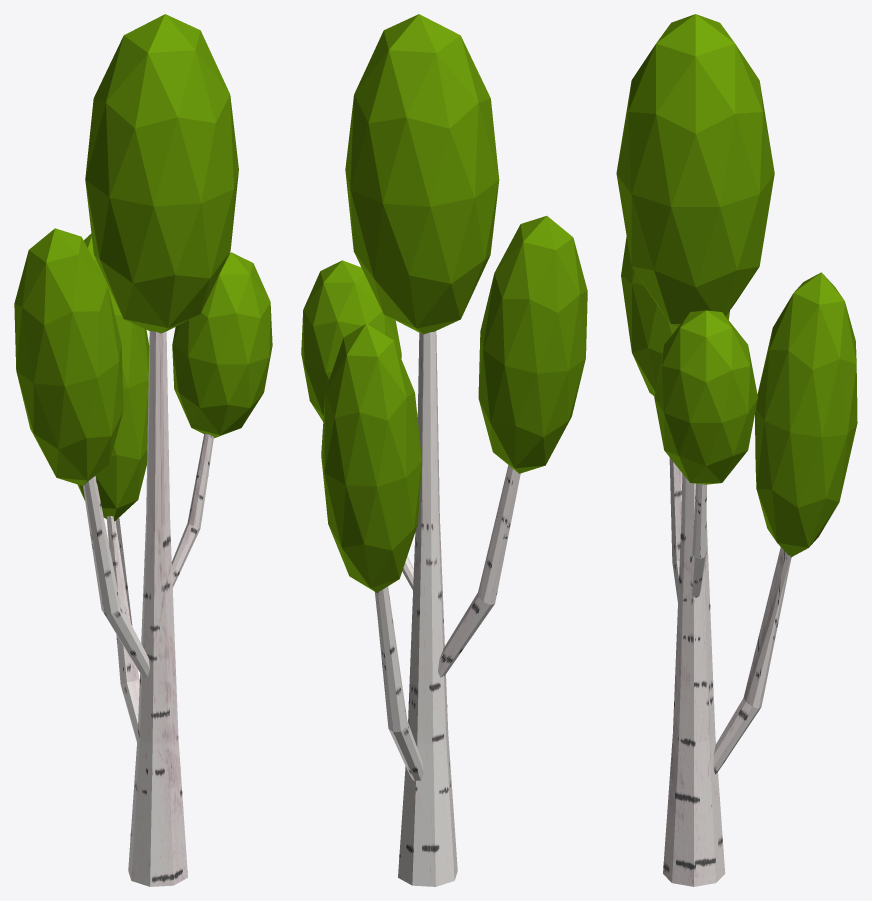
The model's file is LowPolyTree.fbx.
The picture shows the model from 3 angles, left to right: view 1: azimuth 30°, elevation 25°; view 2: azimuth 150°, elevation 25°; view 3: azimuth 270°, elevation 25°; orthographic projection.
Visible parts, largest first — view 1: Arvore; view 2: Arvore; view 3: Arvore.
Boxes of the visible parts, x1,y1,x2,y2 form: Arvore: (14, 14, 272, 886); Arvore: (301, 14, 587, 886); Arvore: (616, 14, 857, 886).
Size of the model in its own units: 120 by 383 by 96.75.
2 materials, 1 textured.
